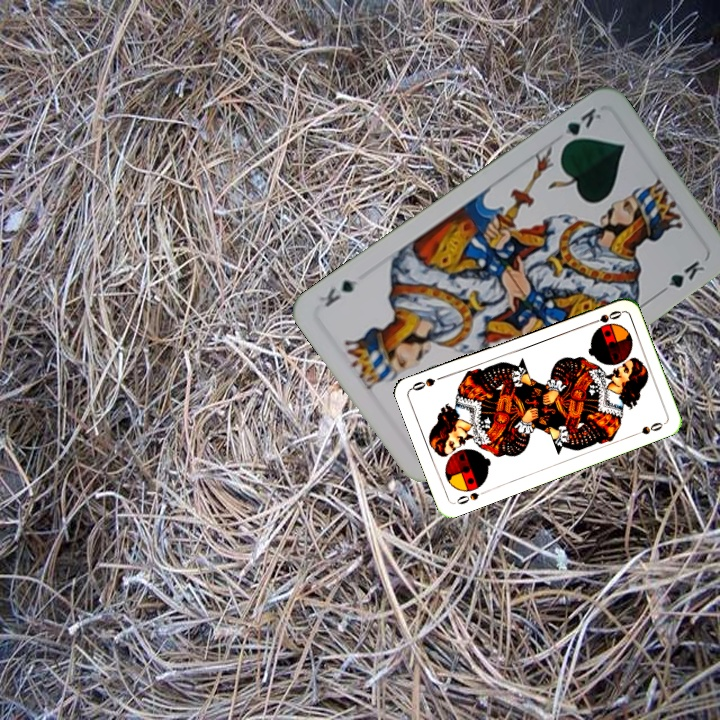GK: (558, 103, 606, 150)
SO: (584, 306, 624, 327), (451, 488, 481, 507)
